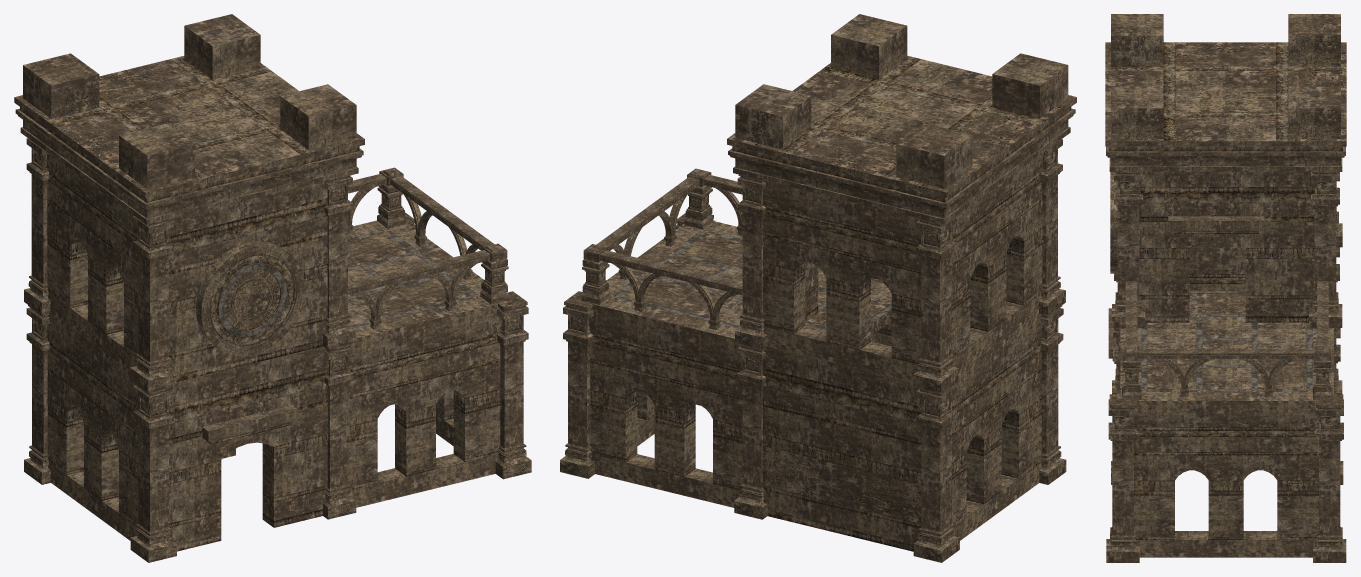
File: materials_5_building_9.fbx
3 renders of one model, left to right at view 1: azimuth 30°, elevation 25°; view 2: azimuth 150°, elevation 25°; view 3: azimuth 270°, elevation 25°, orthographic. The views are drawn at different scales.
Parts seen in each view (by area): view 1: materials_5_building_9; view 2: materials_5_building_9; view 3: materials_5_building_9.
Boxes of the visible parts, box(x1,y1,x2,y2) form: materials_5_building_9: box(14, 14, 531, 562); materials_5_building_9: box(560, 14, 1076, 562); materials_5_building_9: box(1105, 14, 1346, 562).
Size of the model in its own units: 1265 by 1273 by 740.
